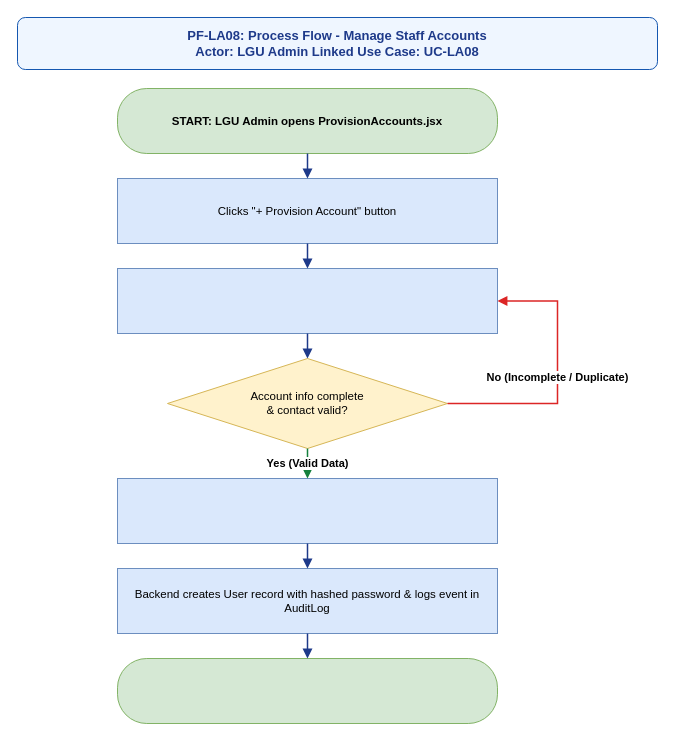
This 675x741 diagram has some shape labels left out. The shapes that lost their labels are listed below. From the top down, each one's centre as x and y in pixels, then its label:
(x=307, y=301): Fills Name, Contact Number, Department, Role (Staff/Official), & Barangay
(x=307, y=511): Sends POST /api/auth/provision-staff (or provision-official) with payload
(x=307, y=691): END: Staff account active with role-based access control
